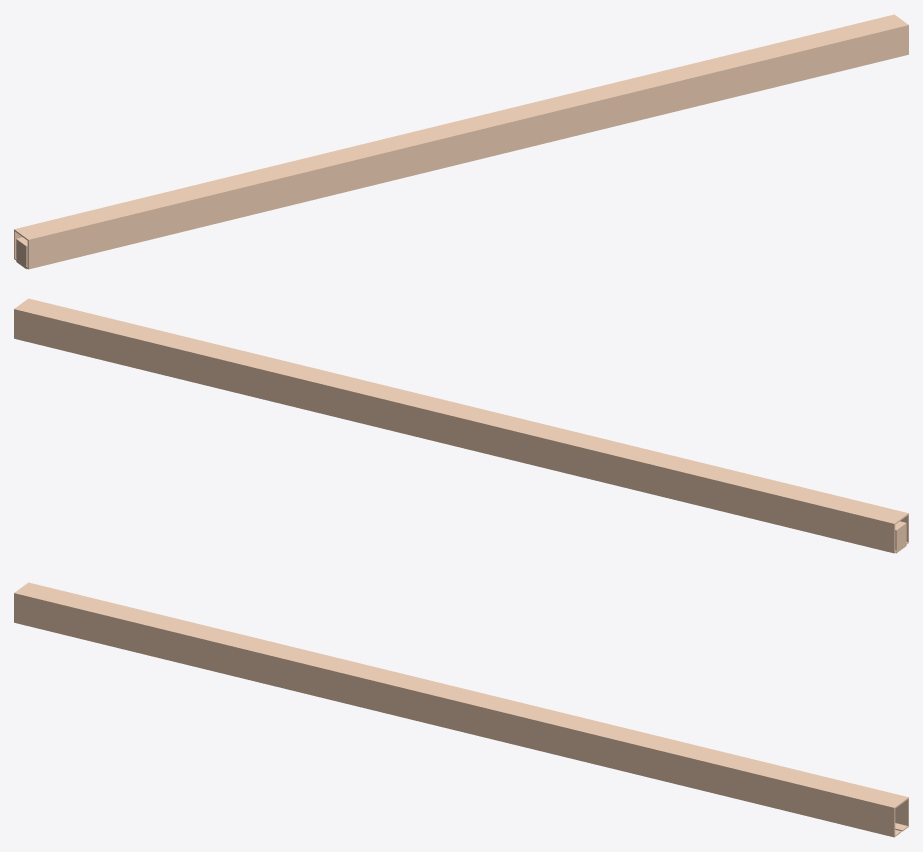
File: SPBA-LINEAR-ADJ-1400-Gold.glb
3 renders of one model, top to bottom at view 1: azimuth 30°, elevation 25°; view 2: azimuth 150°, elevation 25°; view 3: azimuth 330°, elevation 25°, orthographic.
Parts seen in each view (by area): view 1: Mesh_1.012; view 2: Mesh_1.012; view 3: Mesh_1.012.
Part boxes in pixels (x1,y1,x2,y2): Mesh_1.012: (14, 14, 908, 269); Mesh_1.012: (14, 298, 908, 553); Mesh_1.012: (14, 582, 908, 837).
Bounding box in the file's own units: 1.4 × 0.0472 × 0.04.
